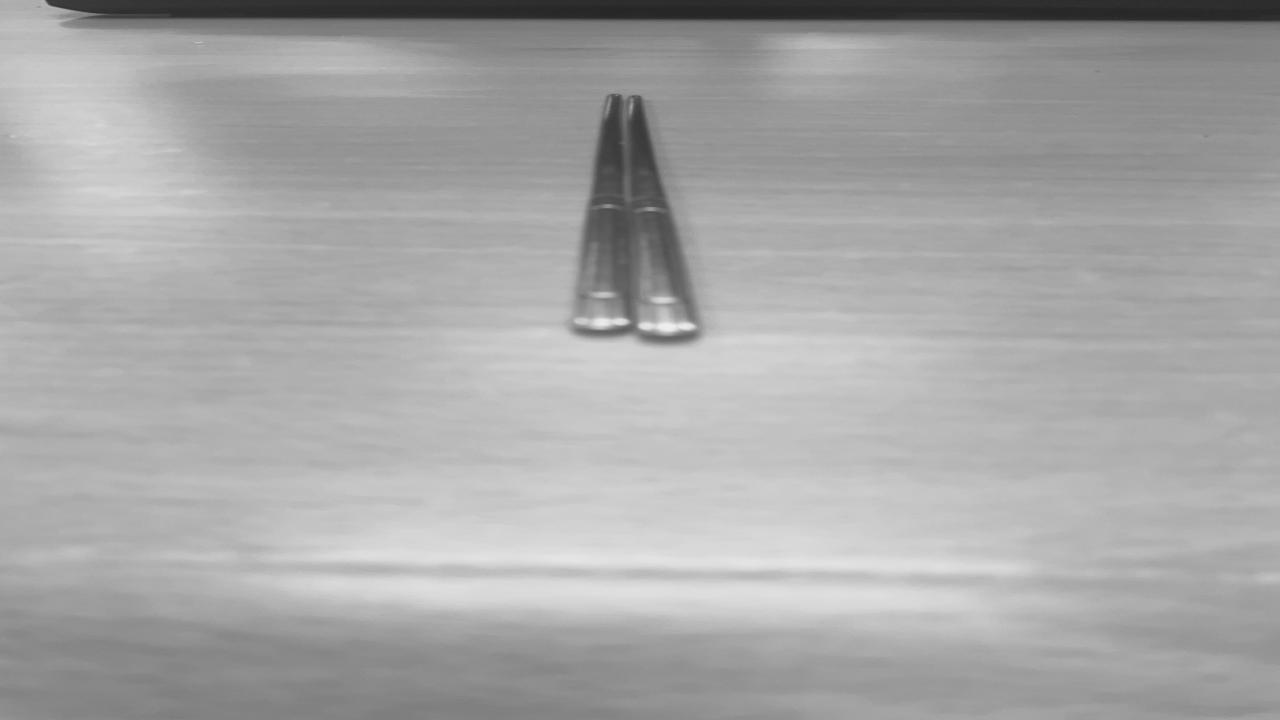chopstick: (574, 96, 694, 334)
